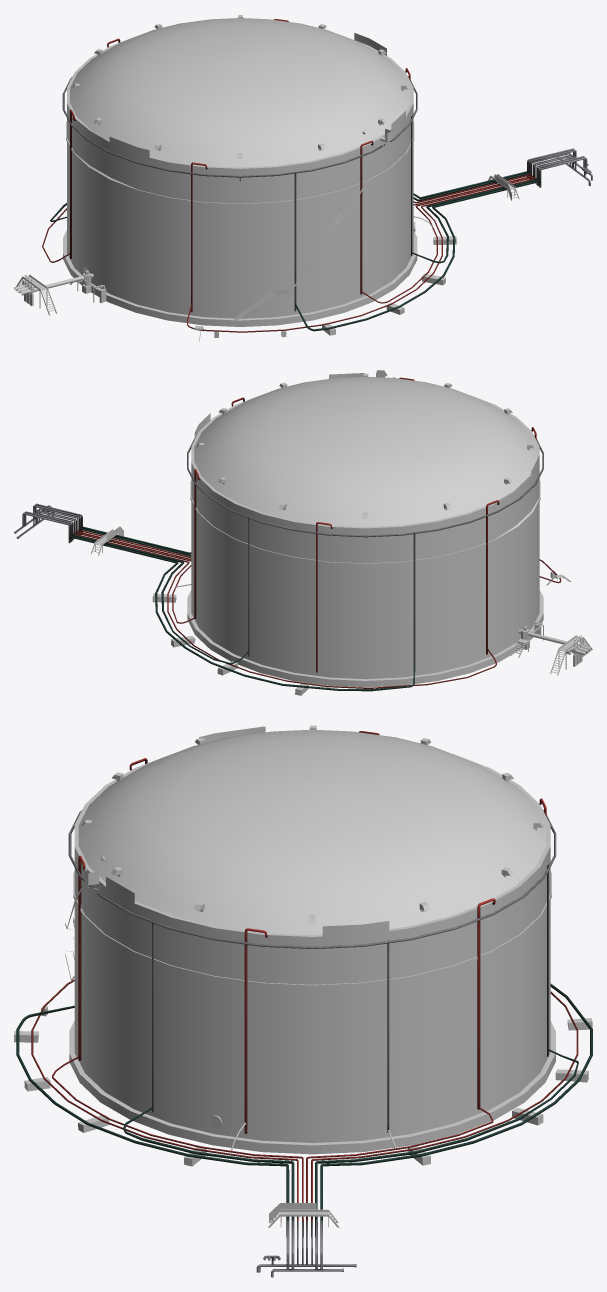
File: daguanzi.FBX
3 views of the same model, one above another, from view 1: azimuth 30°, elevation 25°; view 2: azimuth 150°, elevation 25°; view 3: azimuth 270°, elevation 25° (orthographic). The views are drawn at different scales.
Parts seen in each view (by area): view 1: Object09, Object10, Object08, Object11; view 2: Object09, Object10, Object08, Object11; view 3: Object09, Object10, Object08, Object11.
Part boxes in pixels (x1=…): Object09: x1=63, y1=18, x2=417, y2=326; Object10: x1=42, y1=19, x2=592, y2=332; Object08: x1=14, y1=15, x2=519, y2=341; Object11: x1=109, y1=33, x2=511, y2=199; Object09: x1=187, y1=376, x2=543, y2=687; Object10: x1=14, y1=377, x2=561, y2=691; Object08: x1=90, y1=373, x2=592, y2=695; Object11: x1=106, y1=370, x2=539, y2=540; Object09: x1=69, y1=729, x2=555, y2=1154; Object10: x1=16, y1=731, x2=592, y2=1277; Object08: x1=14, y1=725, x2=592, y2=1227; Object11: x1=84, y1=726, x2=389, y2=1221.
Size of the model in its own units: 97.64 by 63.47 by 32.47.
